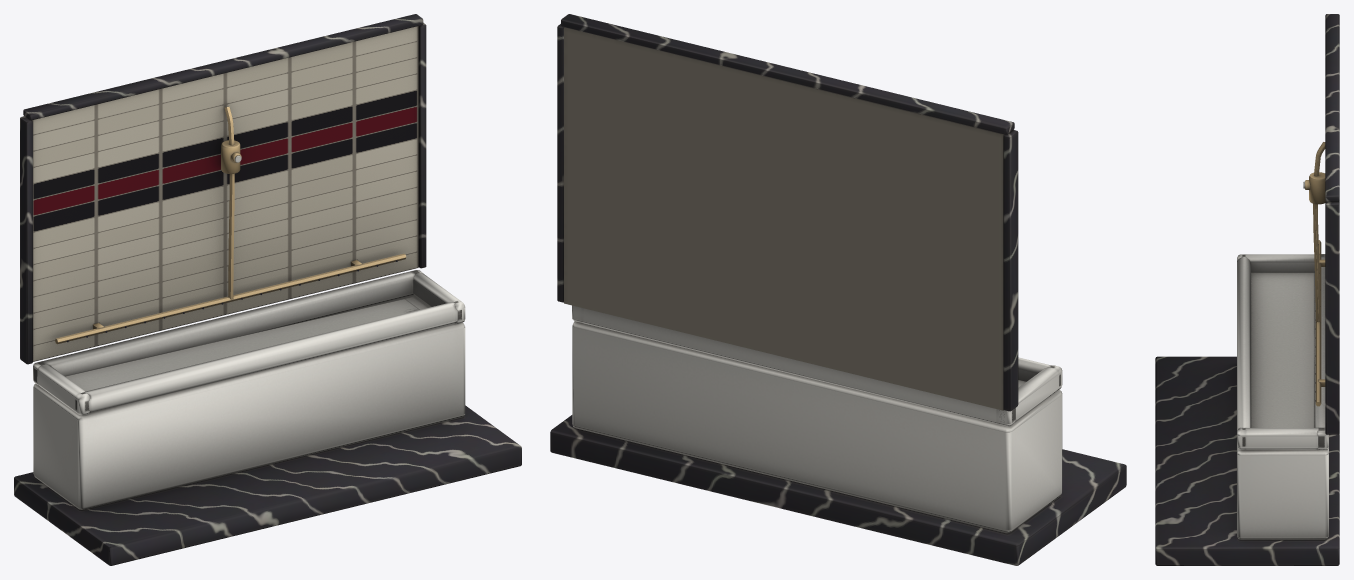
Rendered from UrinalTrough.fbx.
3 renders of one model, left to right at view 1: azimuth 30°, elevation 25°; view 2: azimuth 150°, elevation 25°; view 3: azimuth 270°, elevation 25°, orthographic. The views are drawn at different scales.
Parts seen in each view (by area): view 1: UrinalTrough; view 2: UrinalTrough; view 3: UrinalTrough.
Part boxes in pixels (box(x1,y1,x2,y2)): UrinalTrough: box(14, 14, 521, 565); UrinalTrough: box(550, 14, 1126, 565); UrinalTrough: box(1155, 14, 1339, 565).
Size of the model in its own units: 640 by 570 by 260.
